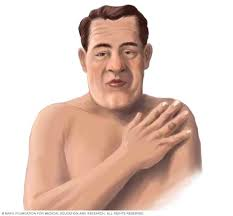No-Glasses: (84, 43, 147, 60)
